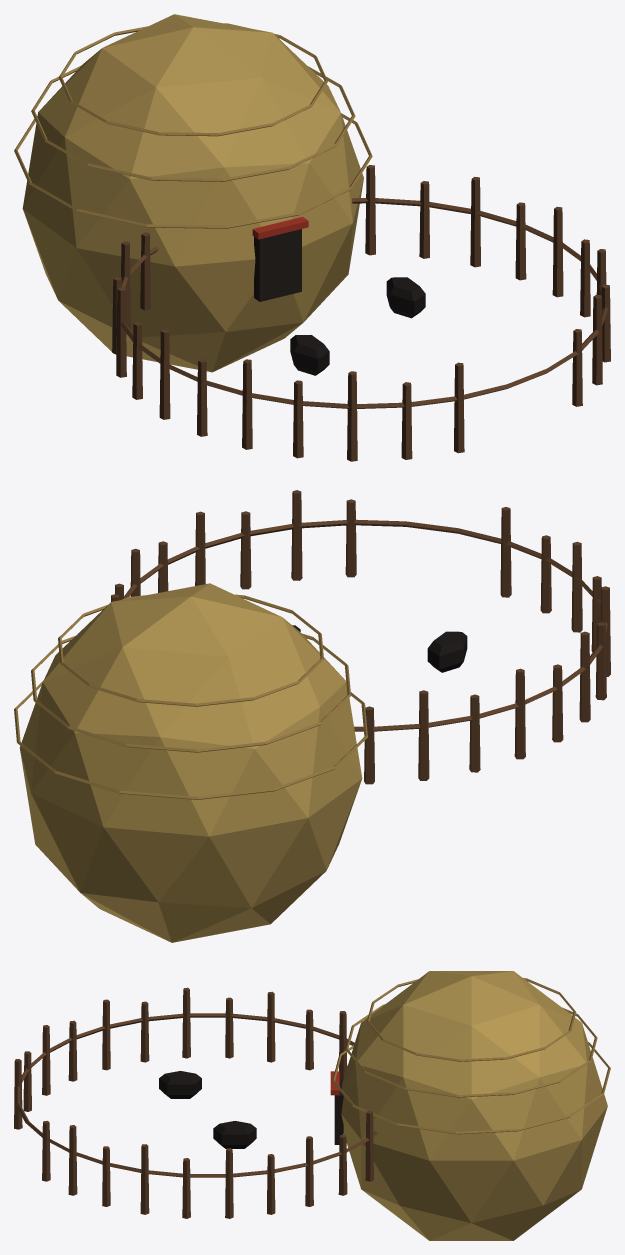
File: elephant_landmark.glb
3 views of the same model, one above another, from view 1: azimuth 30°, elevation 25°; view 2: azimuth 150°, elevation 25°; view 3: azimuth 270°, elevation 25° (orthographic). The views are drawn at different scales.
Visible parts, largest first — view 1: elephant_landmark; view 2: elephant_landmark; view 3: elephant_landmark.
Part boxes in pixels (x1=…): elephant_landmark: x1=14, y1=14, x2=610, y2=461; elephant_landmark: x1=14, y1=490, x2=610, y2=942; elephant_landmark: x1=14, y1=971, x2=610, y2=1240.
Size of the model in its own units: 4.27 by 3.15 by 6.56.
